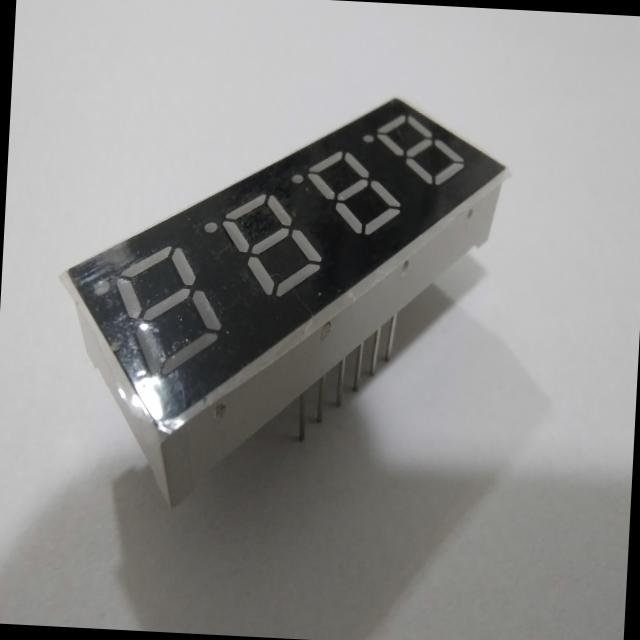7_segments_4_digits: (40, 70, 521, 530)
